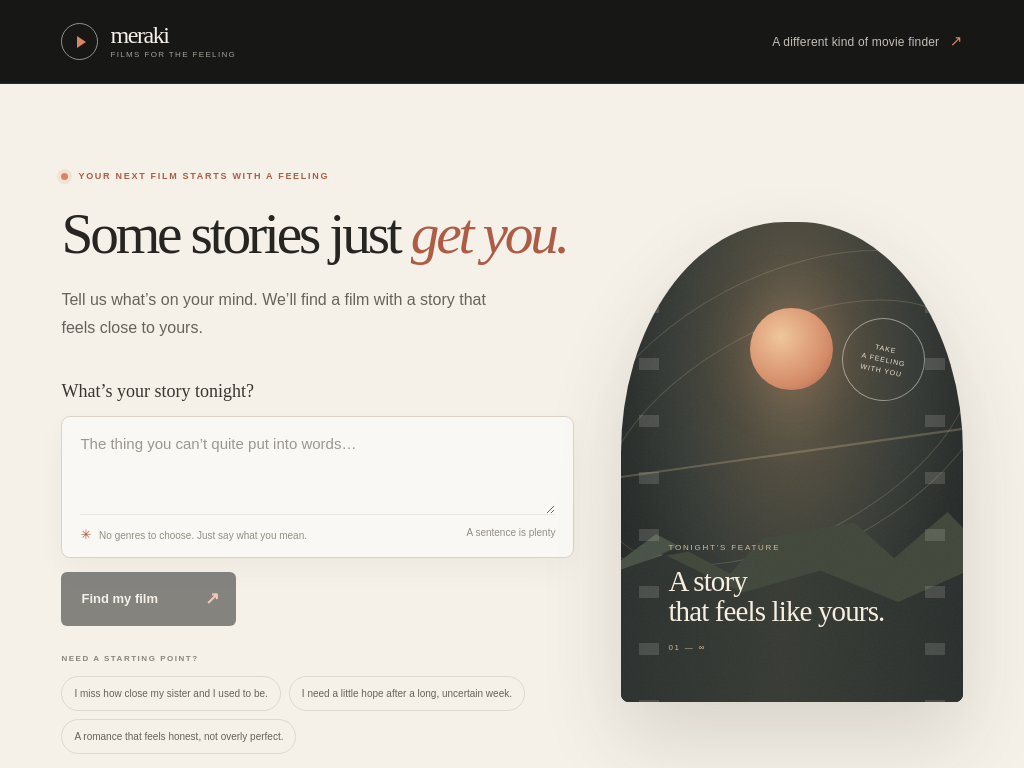
Test: Movie discovery flow › shows the AI error returned by discovery without fake results
In the text box with id "situation": (318, 473) [80, 432, 555, 514], type "I need a story that understands me."
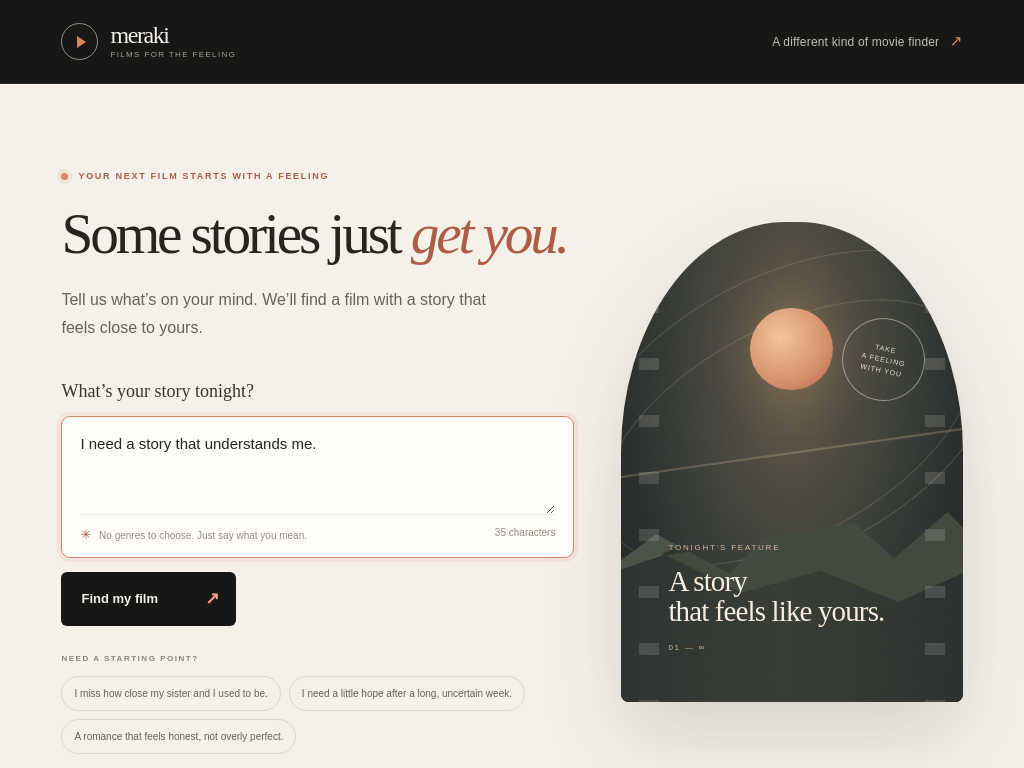
Click the button "Find my film ↗": (149, 599) [61, 572, 236, 626]
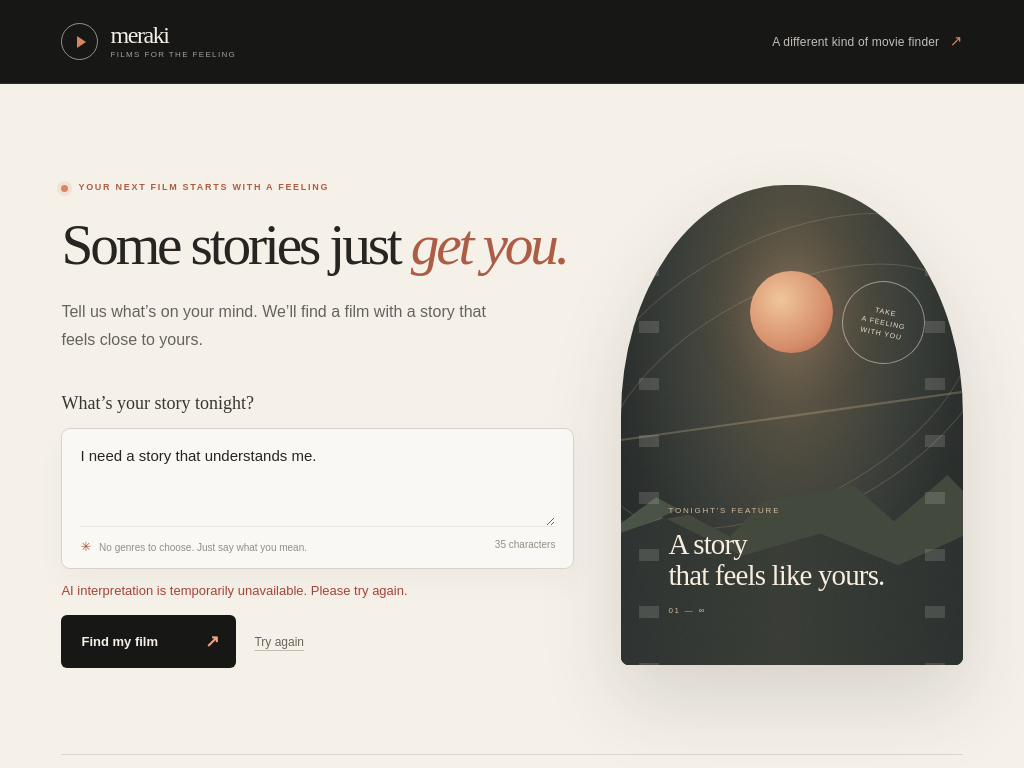
Check: the message "AI interpretation is temporarily unavailable. Please try again." is shown, box [61, 583, 408, 598]
